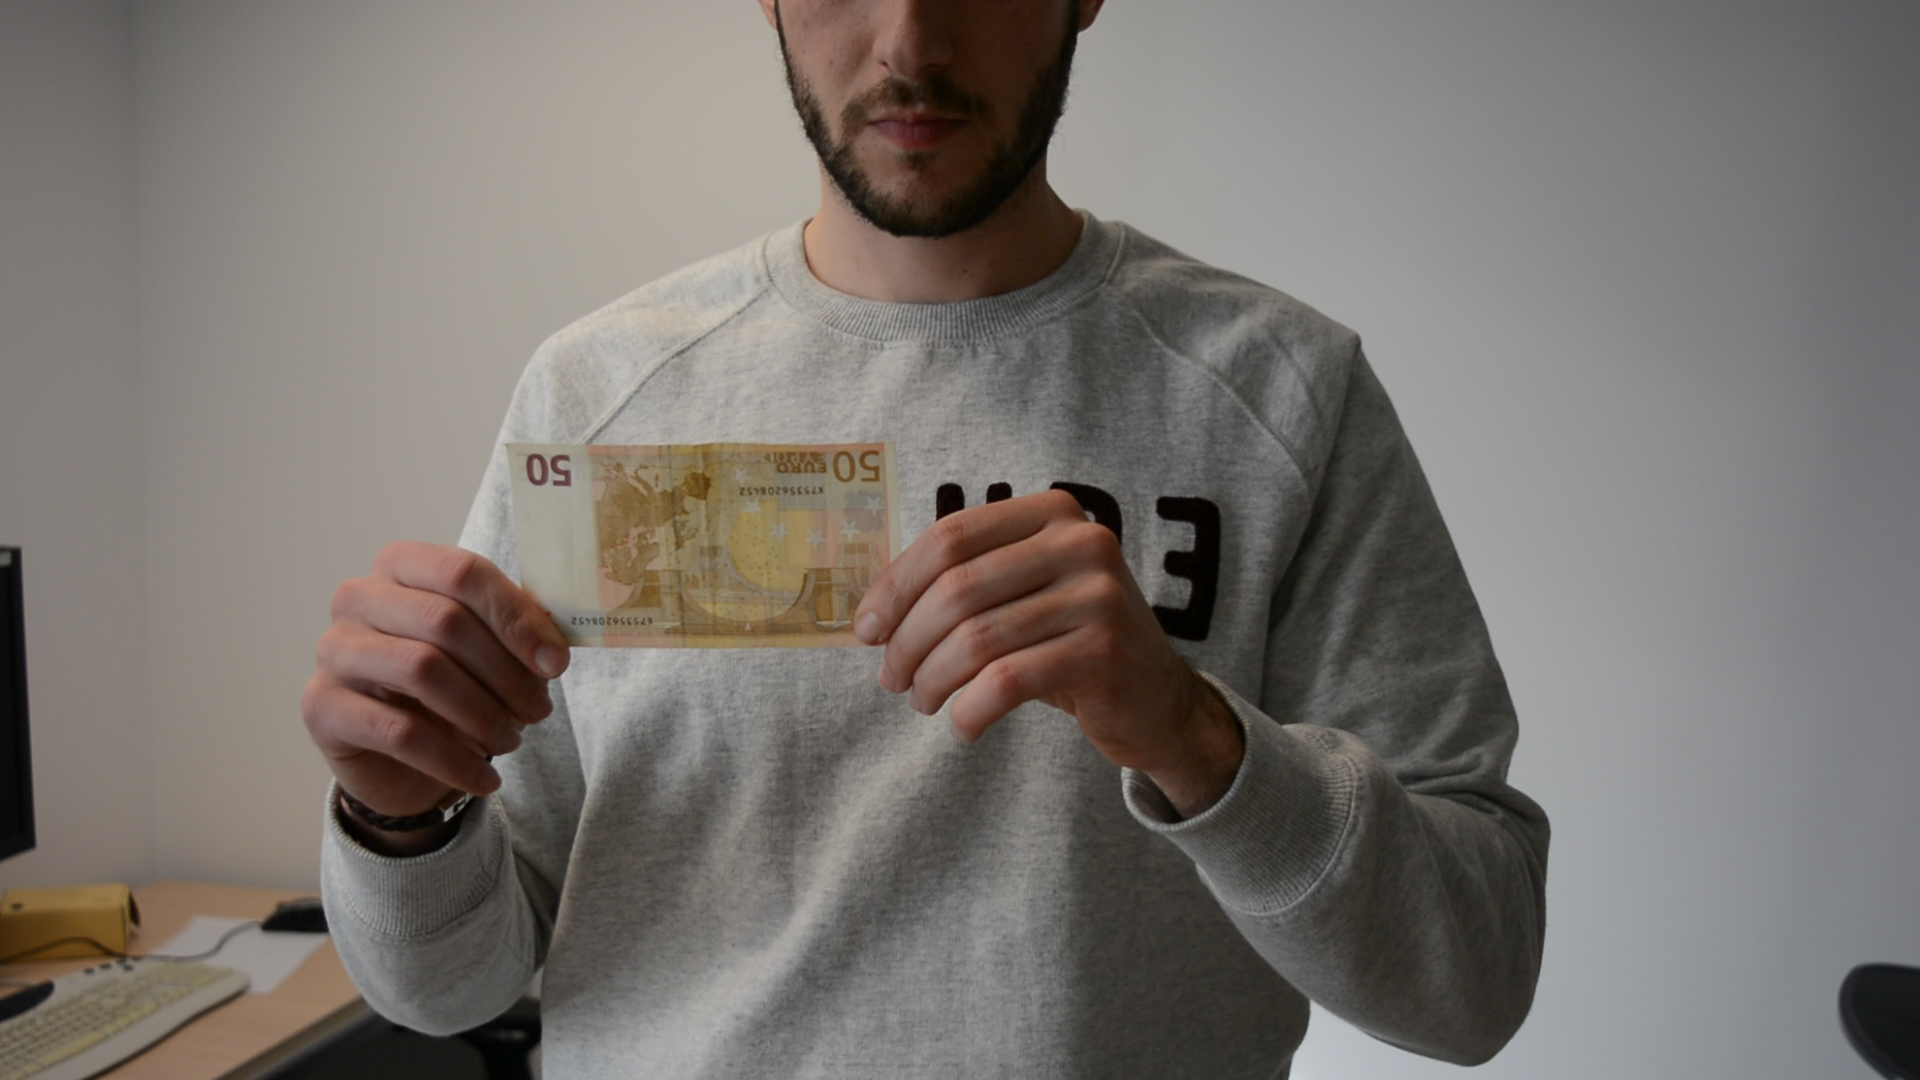billete: (504, 439, 899, 650)
